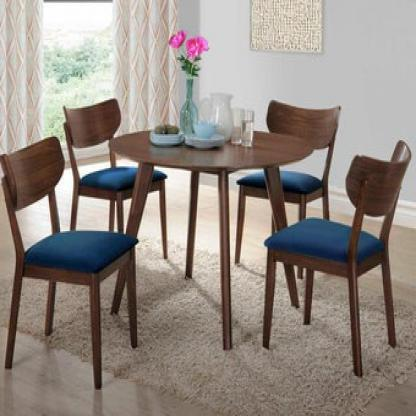chair: (0, 140, 139, 394), (279, 145, 414, 381), (230, 98, 342, 252), (59, 94, 168, 247)
table: (106, 130, 300, 353)
